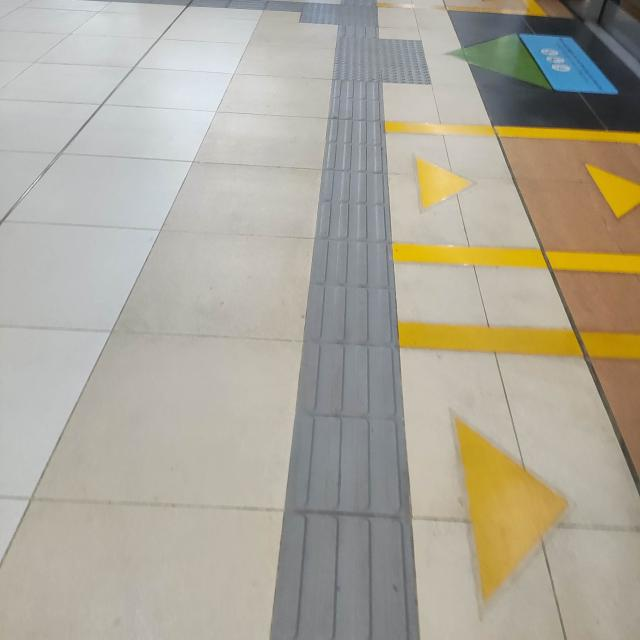lurus: (280, 78, 412, 640)
